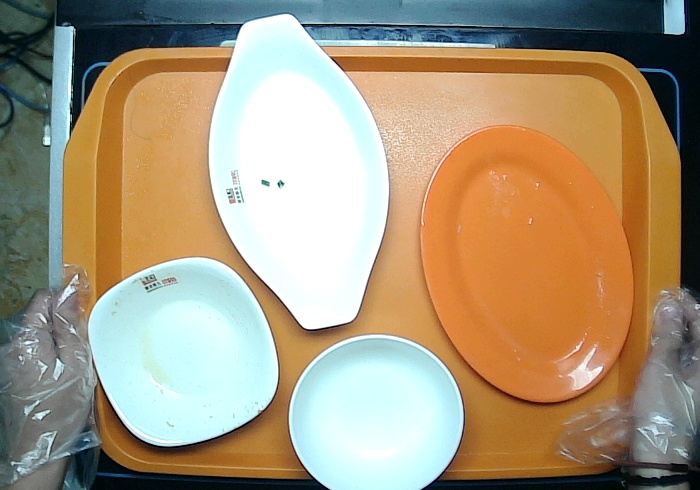NLDX-Bai_Se_Xiao_Fang_Die: (86, 255, 278, 446)
NLDX-Fan_Wan: (288, 333, 466, 490)
NLDX-Ju_Se_Pan: (420, 125, 635, 403)
NLDX-Yu_Pan: (208, 13, 389, 331)
